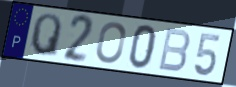0: (127, 24, 159, 71)
2: (61, 12, 95, 64)
5: (192, 32, 222, 78)
B: (156, 27, 191, 75)
O: (95, 21, 127, 65)
Q: (29, 12, 64, 59)
